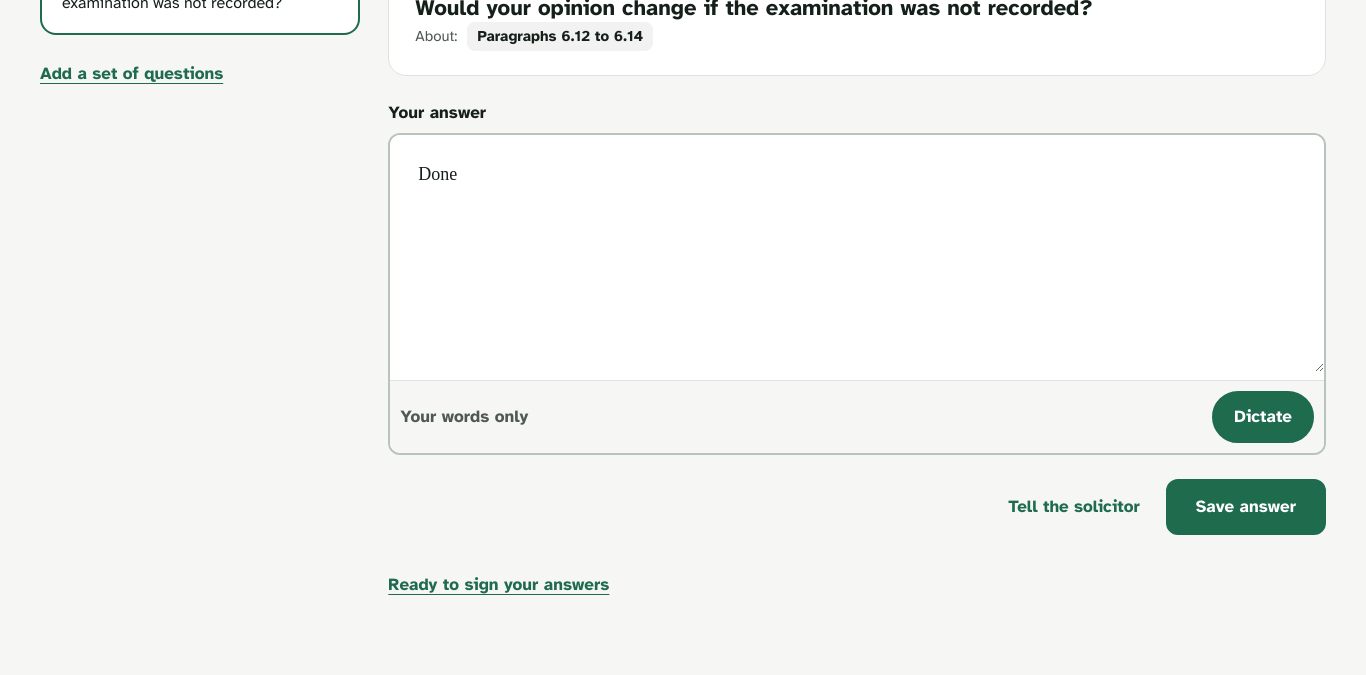
Test case: signing the answers shows the declaration, needs the box ticked, asks for the code, then shows them locked
(page scrolled)
Click the button "Ready to sign your answers": click(499, 585) [388,559,609,611]
(page scrolled)
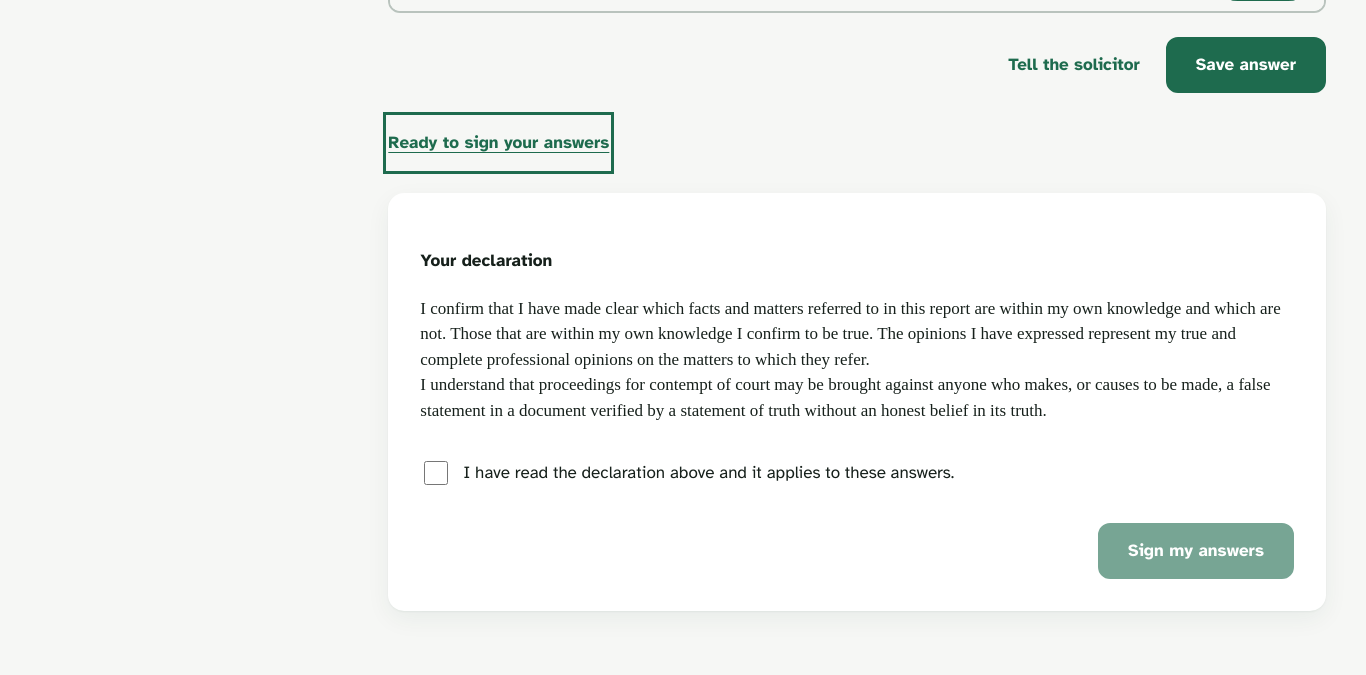
Expected: the text "I confirm that I have made clear which facts and matters referred to in this report are within my own knowledge and whic" is shown, [420,299,1281,369]
Expected: the text "I understand that proceedings for contempt of court may be brought against anyone who makes, or causes to be made, a fal" is shown, [420,375,1270,420]
Expected: the button "Sign my answers" is disabled, [1098,523,1294,579]
Click the checkbox labelled "I have read the declaration above and it applies to these answers.": click(436, 473) [424,461,448,485]
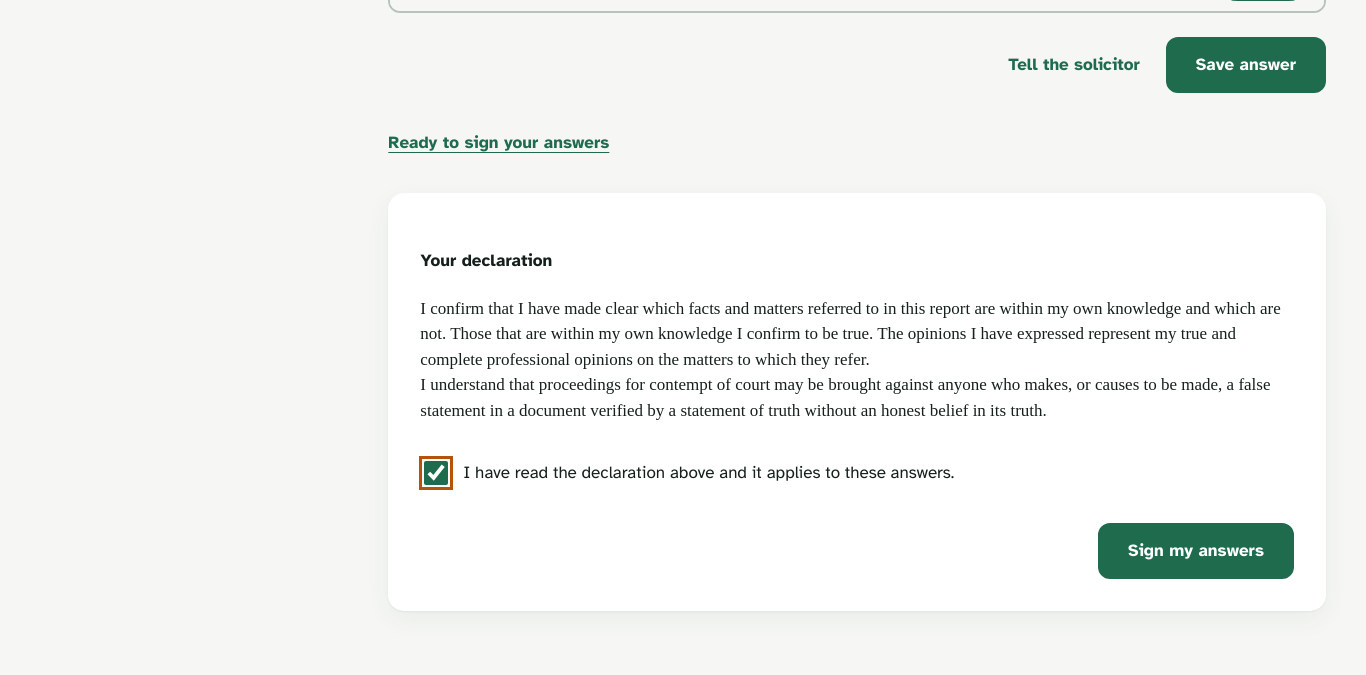
Click the button "Sign my answers": click(1196, 551) [1098,523,1294,579]
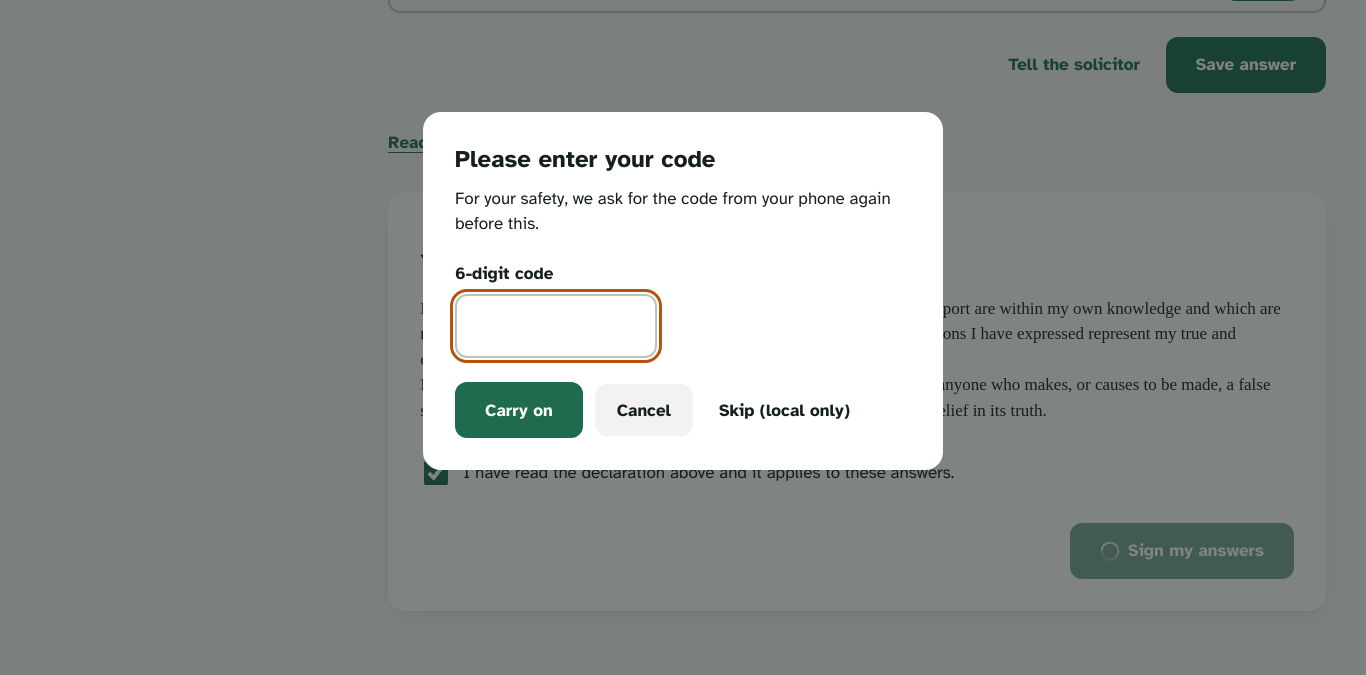
In the field labelled "6-digit code": (556, 326) [455,294,657,358], type "123456"
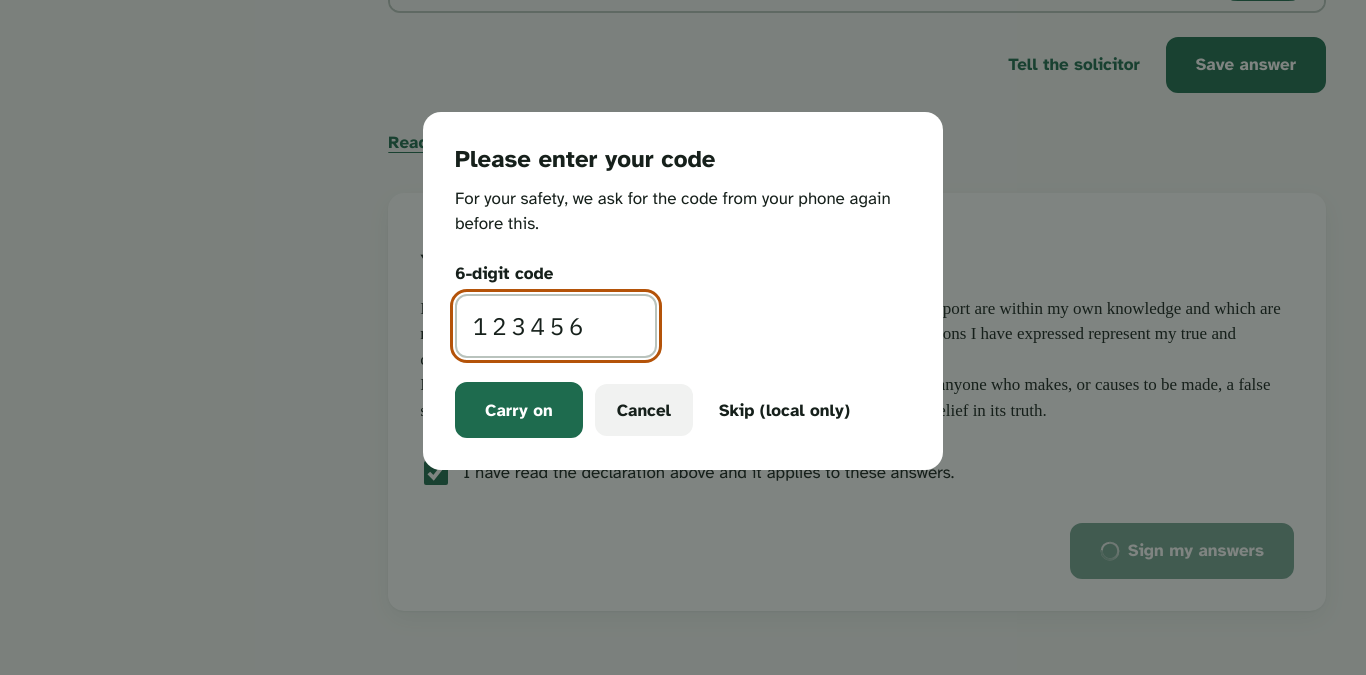
Click the button "Carry on": click(519, 410) [455,382,583,438]
(page scrolled)
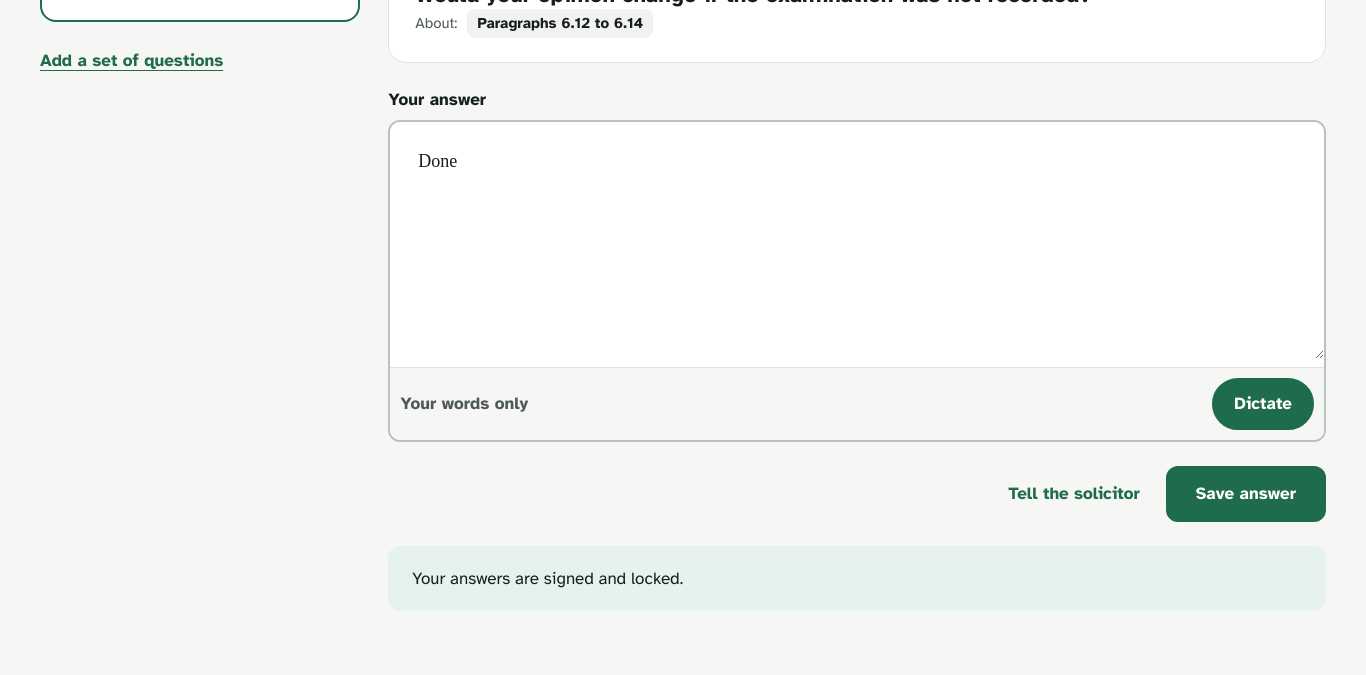
Expected: the text "Your answers are signed and locked." is shown, [412,568,683,589]
Expected: the button "Sign my answers" is gone
